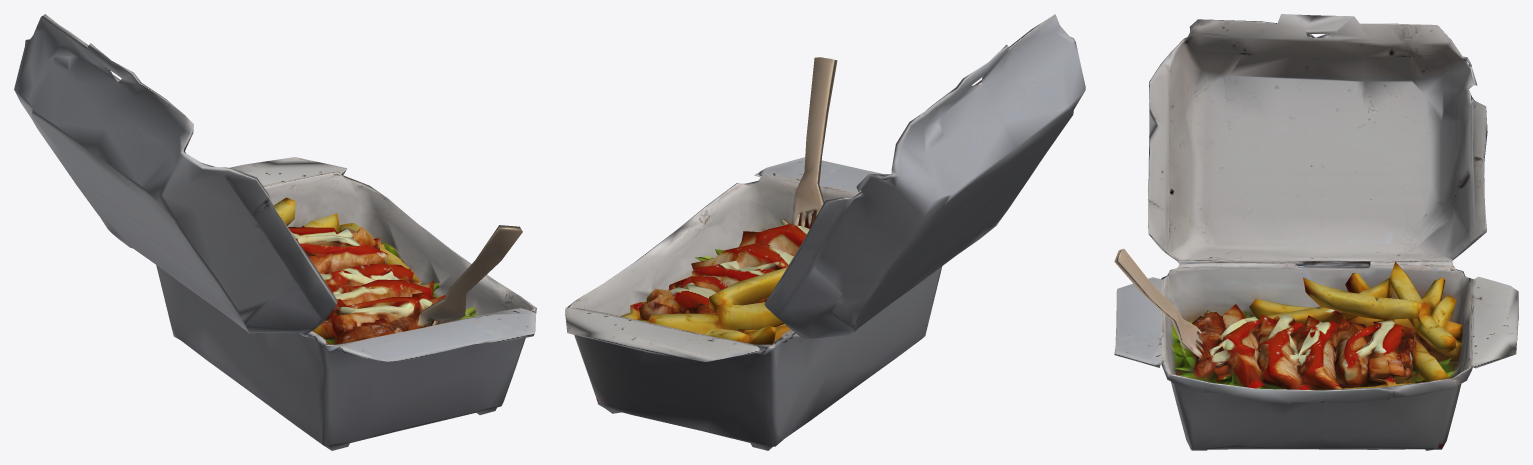
File: cajapollo.glb
The picture shows the model from 3 angles, left to right: view 1: azimuth 30°, elevation 25°; view 2: azimuth 150°, elevation 25°; view 3: azimuth 270°, elevation 25°; orthographic projection. The views are drawn at different scales.
Visible parts, largest first — view 1: tripo_node_5b6b3124-01fe-4885-9402-24e81581236d; view 2: tripo_node_5b6b3124-01fe-4885-9402-24e81581236d; view 3: tripo_node_5b6b3124-01fe-4885-9402-24e81581236d.
Part boxes in pixels (<box>): tripo_node_5b6b3124-01fe-4885-9402-24e81581236d: <box>14,14,536,450</box>; tripo_node_5b6b3124-01fe-4885-9402-24e81581236d: <box>565,14,1085,450</box>; tripo_node_5b6b3124-01fe-4885-9402-24e81581236d: <box>1114,14,1518,450</box>.
Bounding box in the file's own units: 0.8703 × 0.8313 × 0.9756.
1 material, 1 textured.
